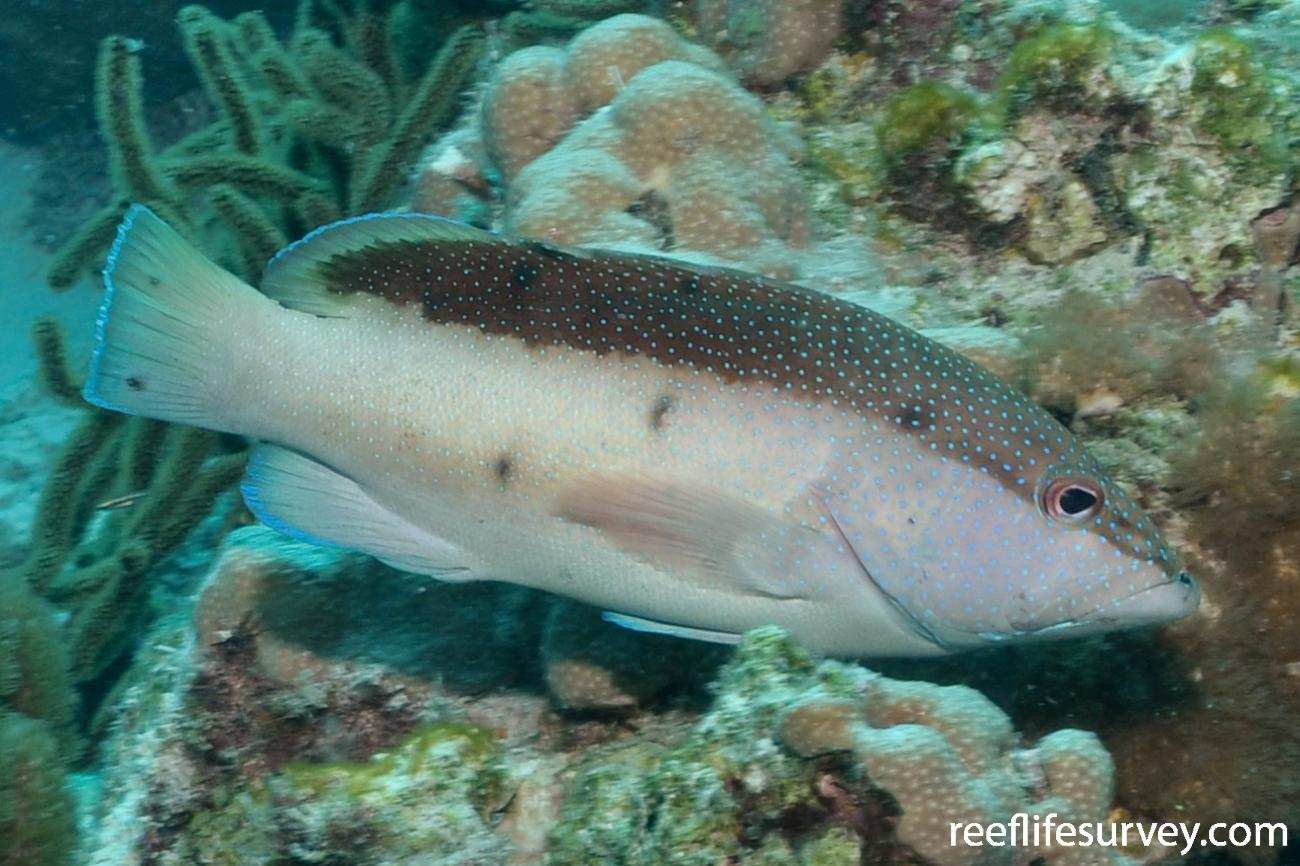Cephalopholis_fulvaw: (71, 181, 1250, 695)
